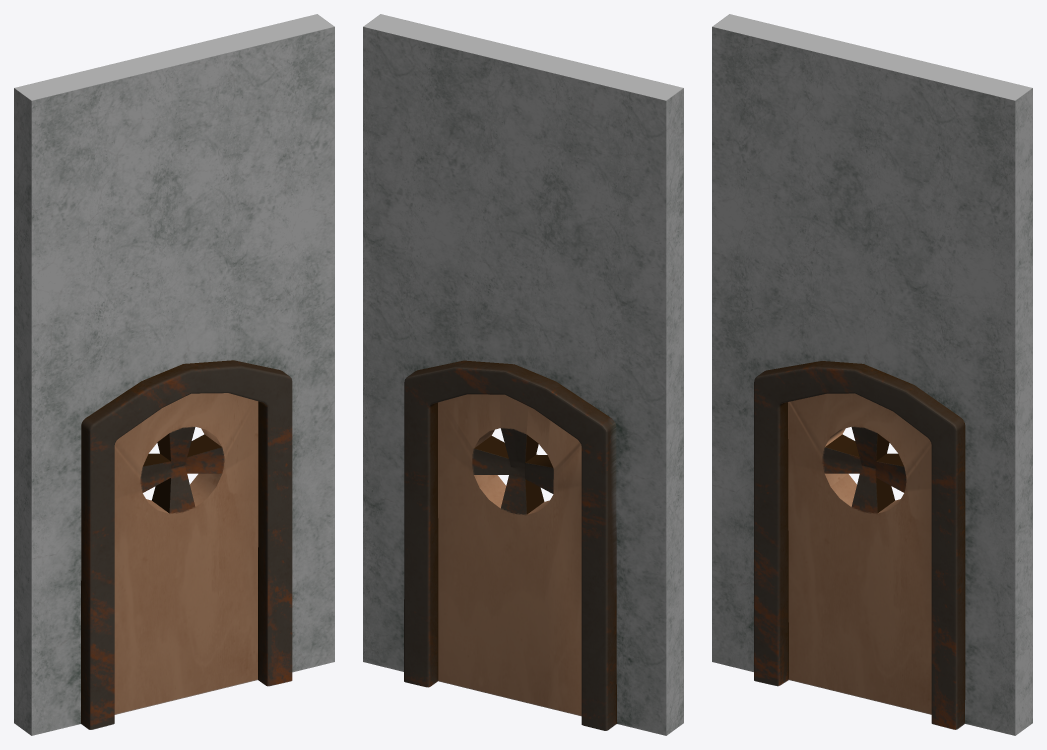
File: ddd.fbx
3 views of the same model, side by side, from view 1: azimuth 30°, elevation 25°; view 2: azimuth 150°, elevation 25°; view 3: azimuth 330°, elevation 25° (orthographic).
Parts seen in each view (by area): view 1: DOOR; view 2: DOOR; view 3: DOOR.
Part boxes in pixels (x1,y1,x2,y2): DOOR: (14,14,334,735); DOOR: (363,14,683,735); DOOR: (712,14,1032,735).
Size of the model in its own units: 2 by 4 by 0.4182.
